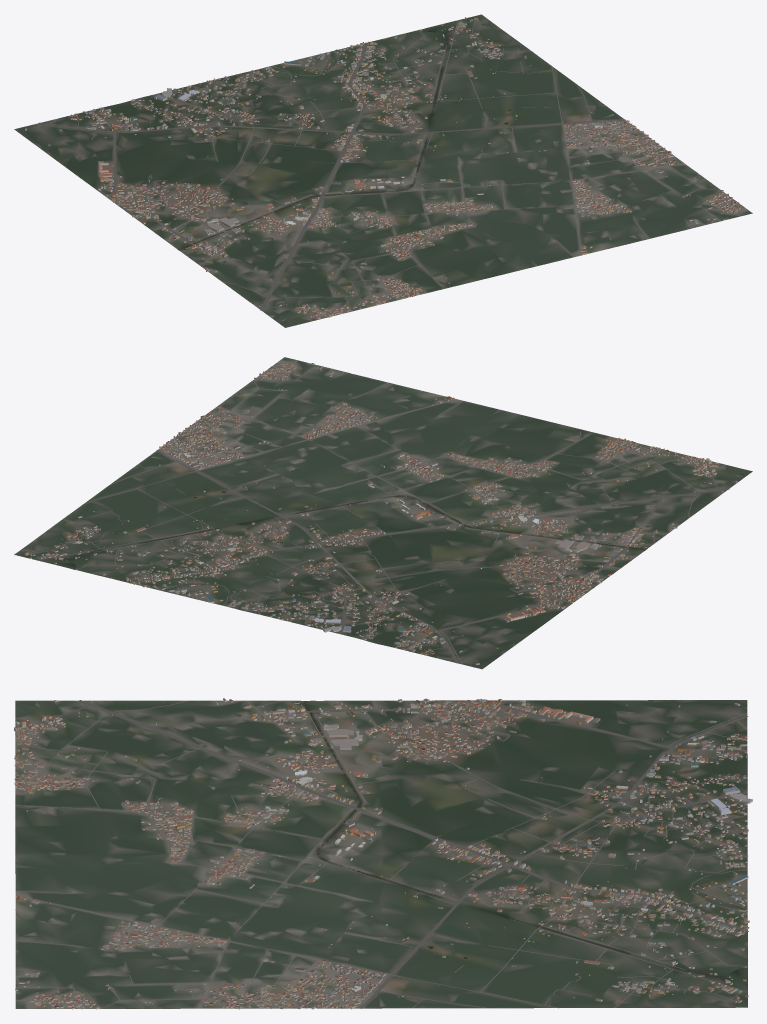
3 renders of one model, top to bottom at view 1: azimuth 30°, elevation 25°; view 2: azimuth 150°, elevation 25°; view 3: azimuth 270°, elevation 25°, orthographic. The views are drawn at different scales.
Visible parts, largest first — view 1: ground, buildings, roads; view 2: ground, buildings, roads; view 3: ground, buildings, roads, water.
Part boxes in pixels (x1,y1,x2,y2): ground: (14, 14, 752, 327); buildings: (25, 17, 740, 318); roads: (34, 20, 741, 320); ground: (14, 357, 752, 669); buildings: (24, 362, 737, 665); roads: (30, 362, 729, 663); ground: (15, 700, 747, 1008); buildings: (14, 698, 752, 1009); roads: (15, 700, 748, 1008); water: (304, 701, 742, 975).
Bounding box in the file's own units: 2811 × 21.42 × 2830.
